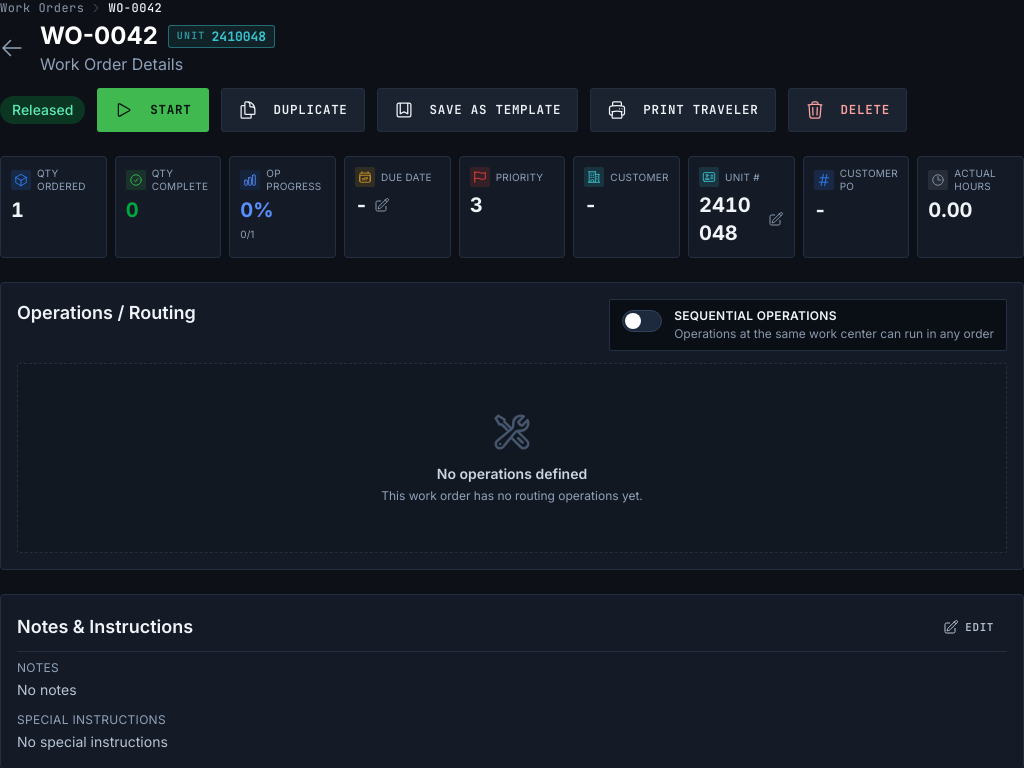
Test: WorkOrderDetail inline unit-# edit › clears the unit with null (not "") when the field is emptied
Click the button named "Edit unit #" at (776, 219), box [768,211,784,227]
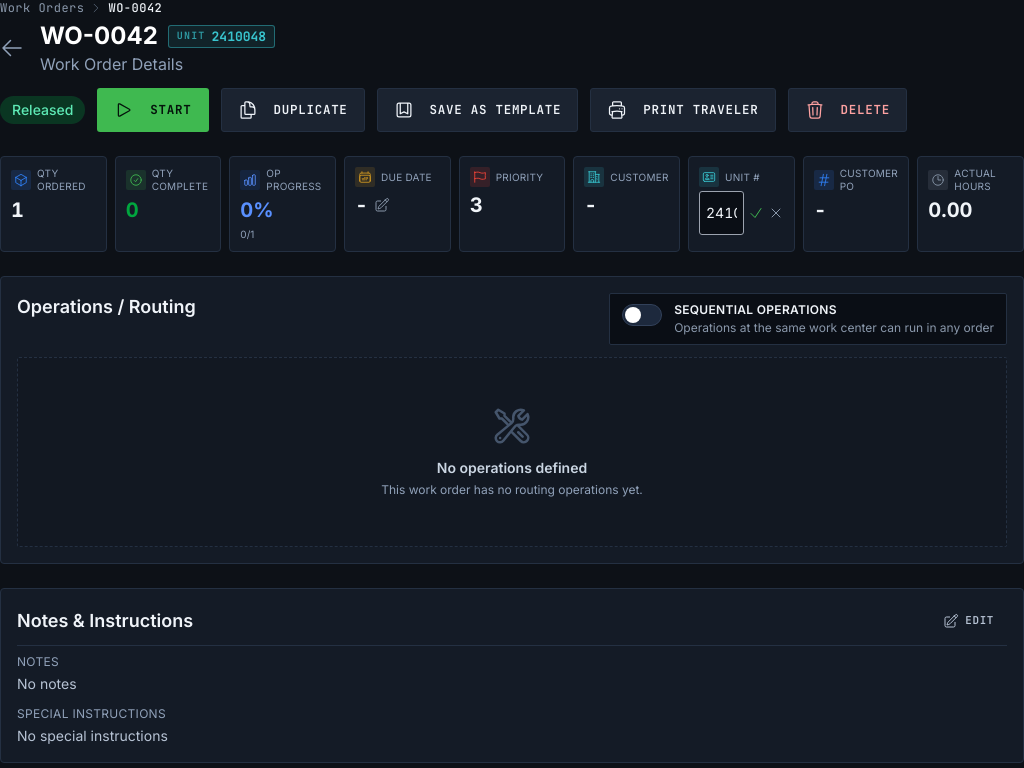
Clear the field named "Unit #" at (721, 213), box [699,191,744,235]
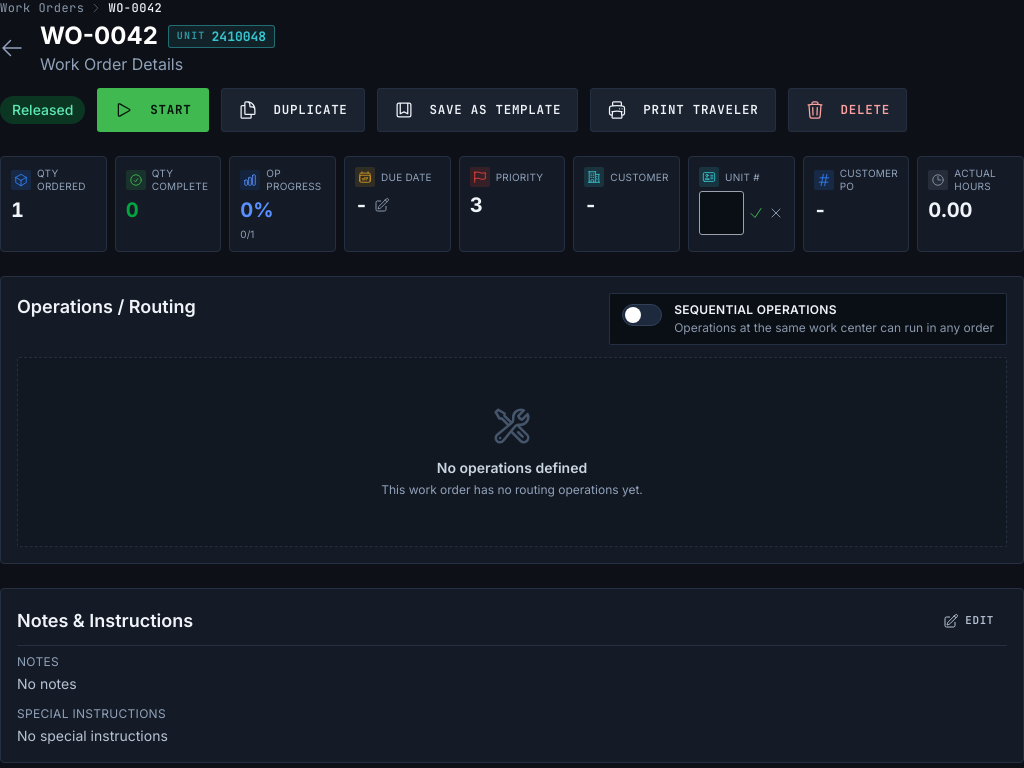
Click the button named "Save unit #" at (756, 213), box [748,205,764,221]
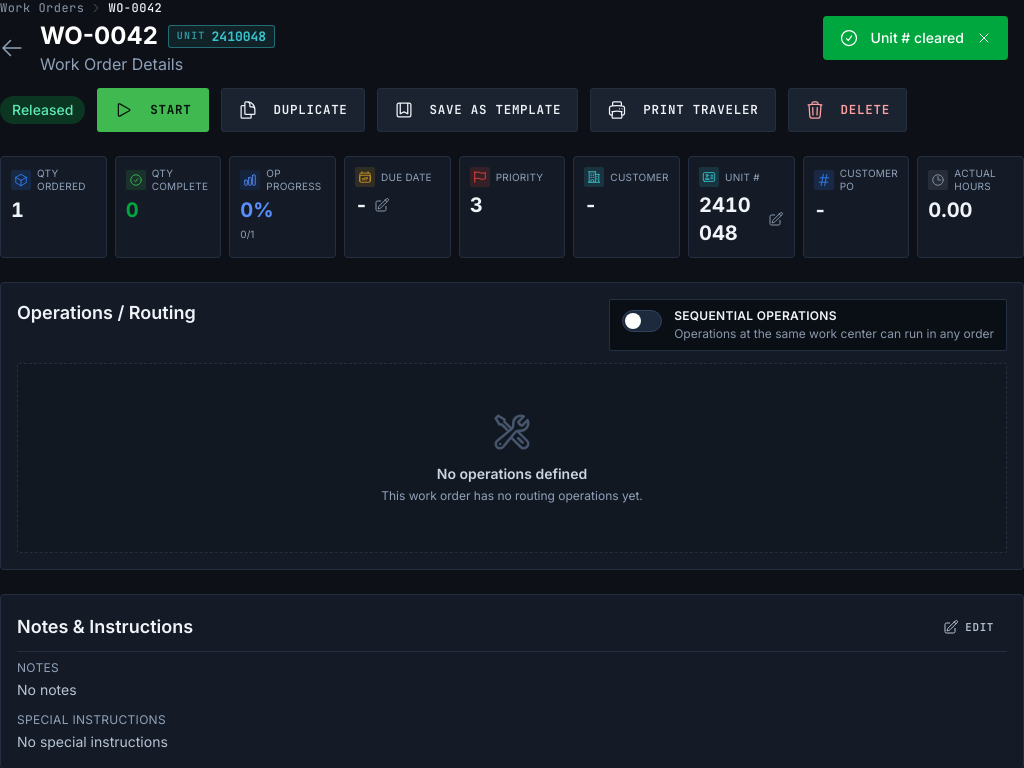
Result: the text "Unit # cleared" is shown at [871,28,964,48]
